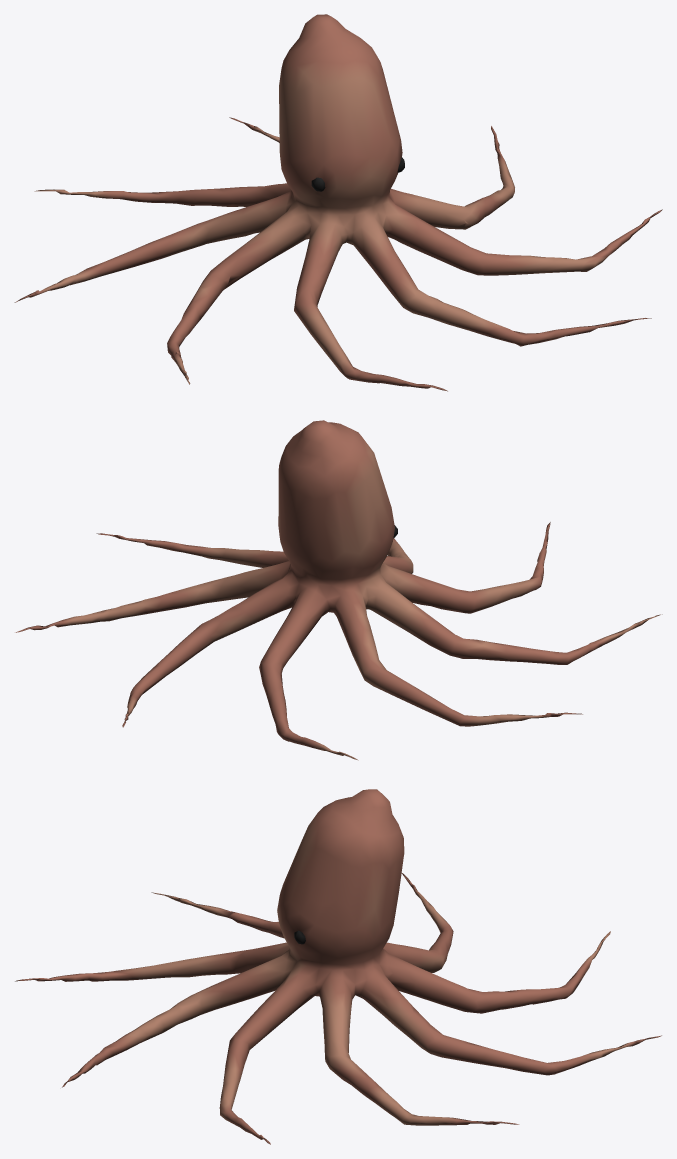
The model's file is krake.glb.
The picture shows the model from 3 angles, top to bottom: view 1: azimuth 30°, elevation 25°; view 2: azimuth 150°, elevation 25°; view 3: azimuth 270°, elevation 25°; orthographic projection. The views are drawn at different scales.
Parts seen in each view (by area): view 1: lack; view 2: lack; view 3: lack.
Boxes of the visible parts, x1,y1,x2,y2 form: lack: (14,14,662,391); lack: (15,420,662,760); lack: (15,789,661,1144).
Bounding box in the file's own units: 1.51 × 0.6101 × 1.51.
